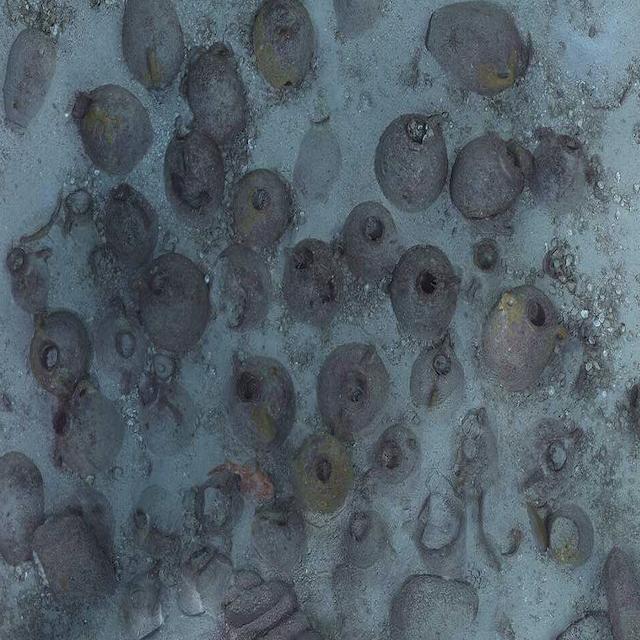amphora: (426, 3, 542, 91), (481, 278, 568, 385), (372, 111, 450, 215), (71, 83, 159, 175), (51, 378, 130, 479), (134, 254, 213, 348), (385, 241, 462, 337), (226, 349, 298, 448), (449, 131, 527, 221), (178, 44, 249, 142), (318, 344, 393, 434), (118, 1, 188, 92), (520, 416, 592, 497), (164, 131, 228, 220), (250, 2, 315, 89), (5, 27, 57, 132), (213, 243, 275, 329), (134, 380, 203, 457), (229, 169, 297, 247), (30, 311, 95, 390), (94, 296, 147, 391), (291, 114, 349, 200), (284, 236, 343, 320), (292, 434, 356, 511), (409, 333, 467, 416), (103, 184, 161, 265), (531, 129, 589, 207), (341, 199, 398, 274), (451, 422, 507, 491), (9, 248, 65, 316), (57, 190, 103, 254), (373, 423, 422, 481), (343, 508, 385, 568)
